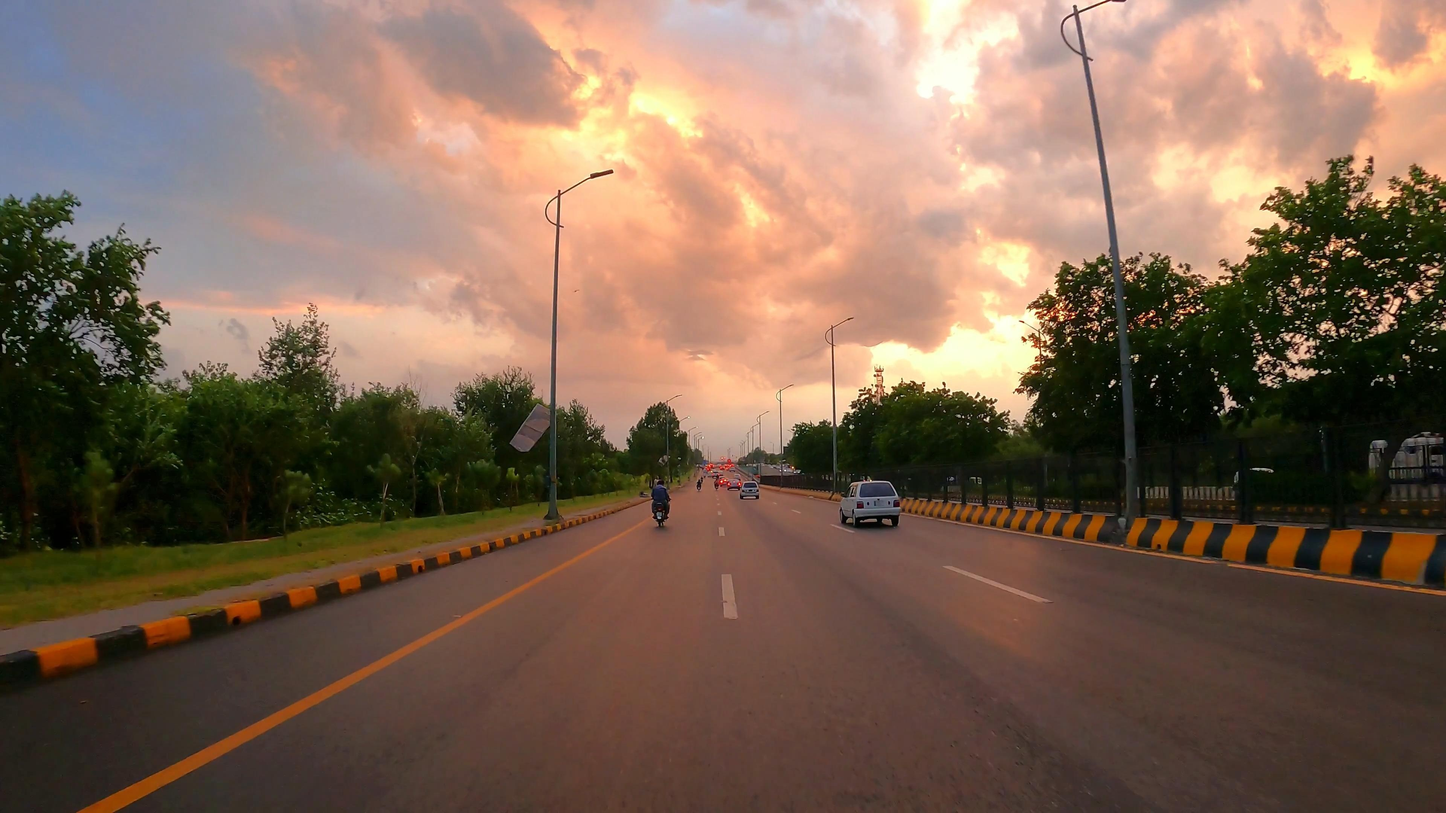Ice: (0, 466, 1446, 813)
